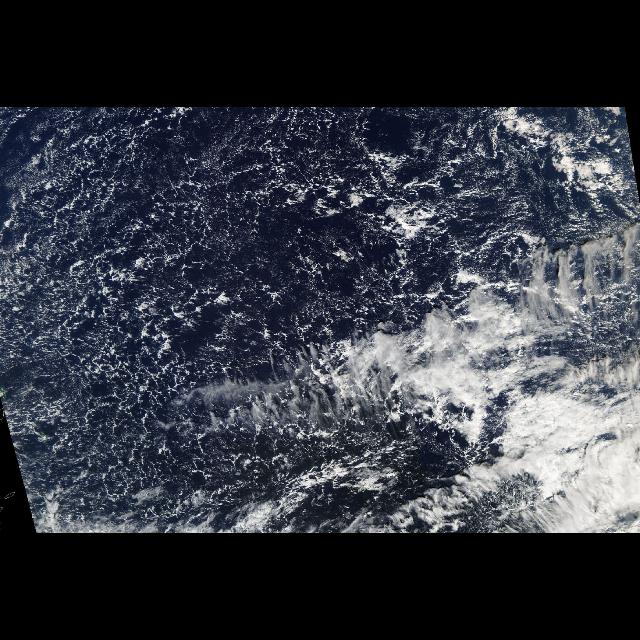Gravel: (2, 107, 414, 533)
Sugar: (440, 128, 562, 242)
